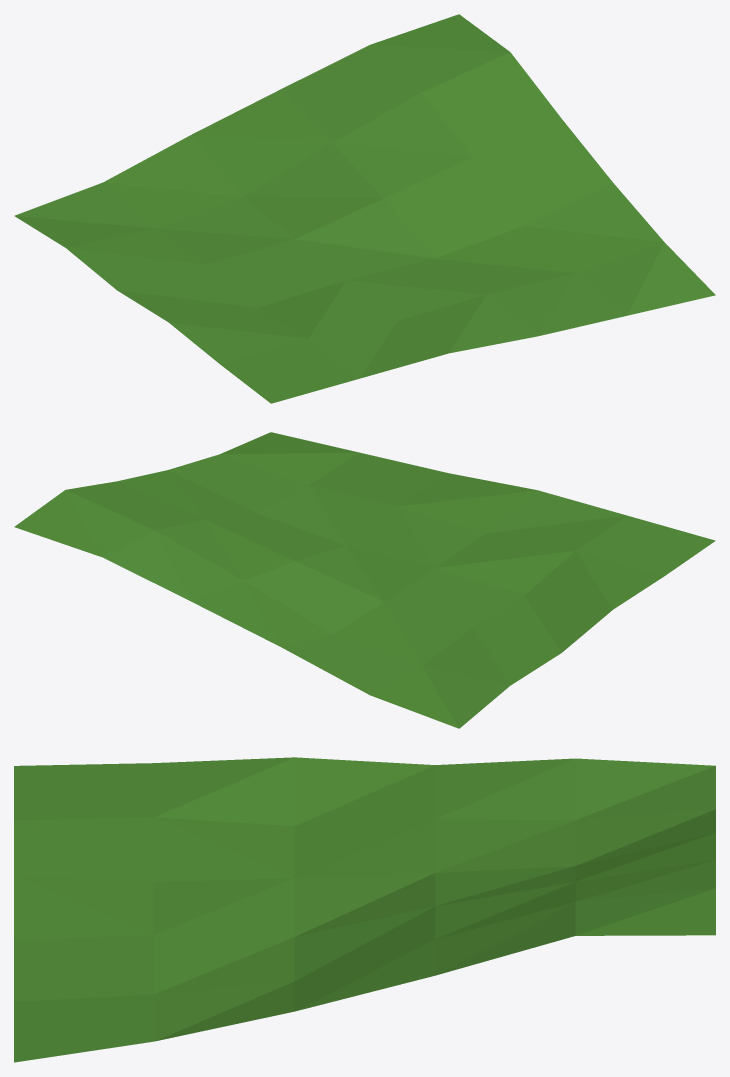
Rendered from terrain-plane-hill1.glb.
The picture shows the model from 3 angles, top to bottom: view 1: azimuth 30°, elevation 25°; view 2: azimuth 150°, elevation 25°; view 3: azimuth 270°, elevation 25°; orthographic projection. The views are drawn at different scales.
Parts seen in each view (by area): view 1: terrain-plane-hill1; view 2: terrain-plane-hill1; view 3: terrain-plane-hill1.
Boxes of the visible parts, <box> form: terrain-plane-hill1: <box>14,14,715,403</box>; terrain-plane-hill1: <box>14,432,715,728</box>; terrain-plane-hill1: <box>14,757,715,1062</box>.
Bounding box in the file's own units: 30.02 × 6.06 × 30.
1 material, 1 textured.
